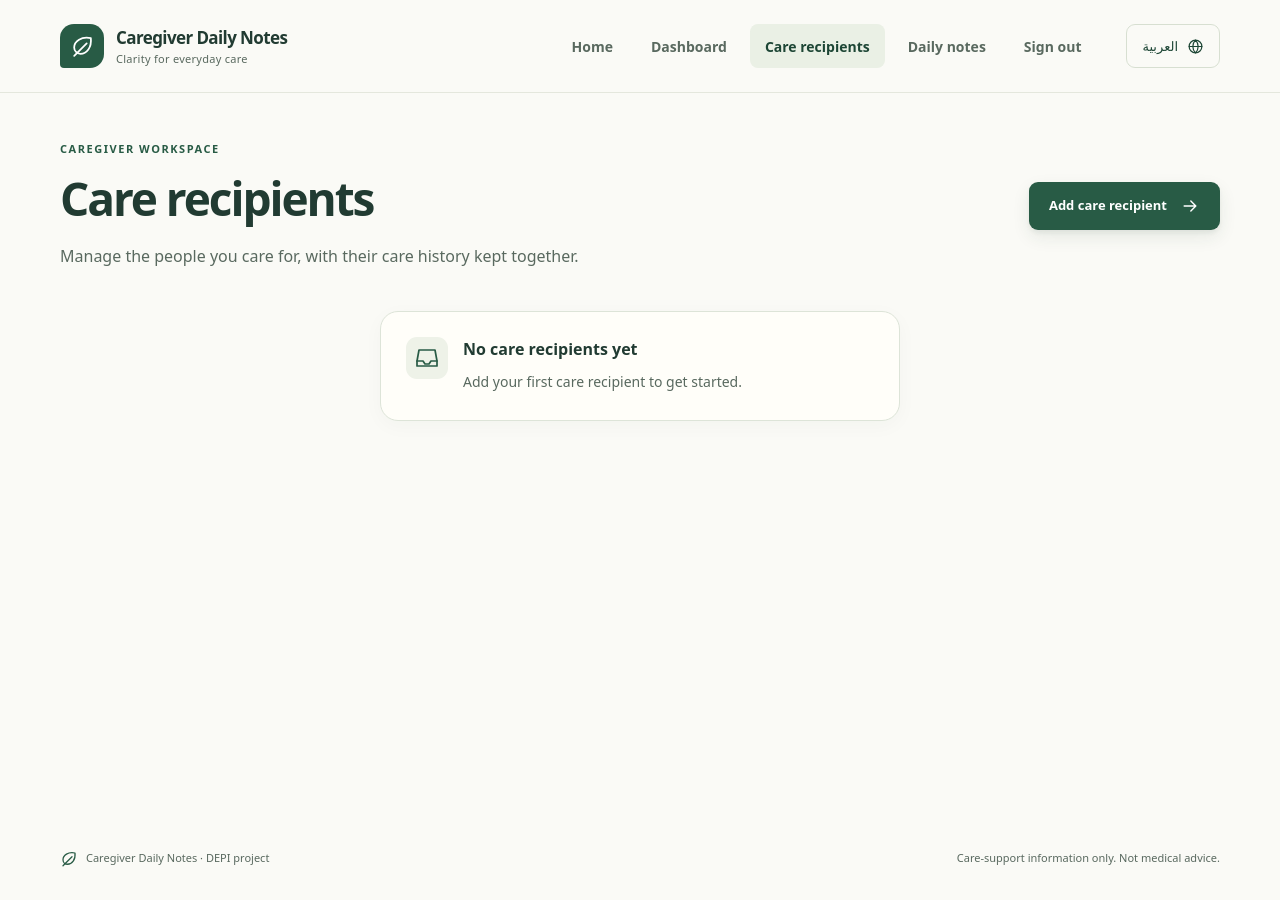
Test: care recipients screens › offers creation from the empty state
Expected: the text "No care recipients yet" is shown, [463,338,638,360]
Click the link "Add care recipient": [1124, 206] box [1029,182,1220,230]
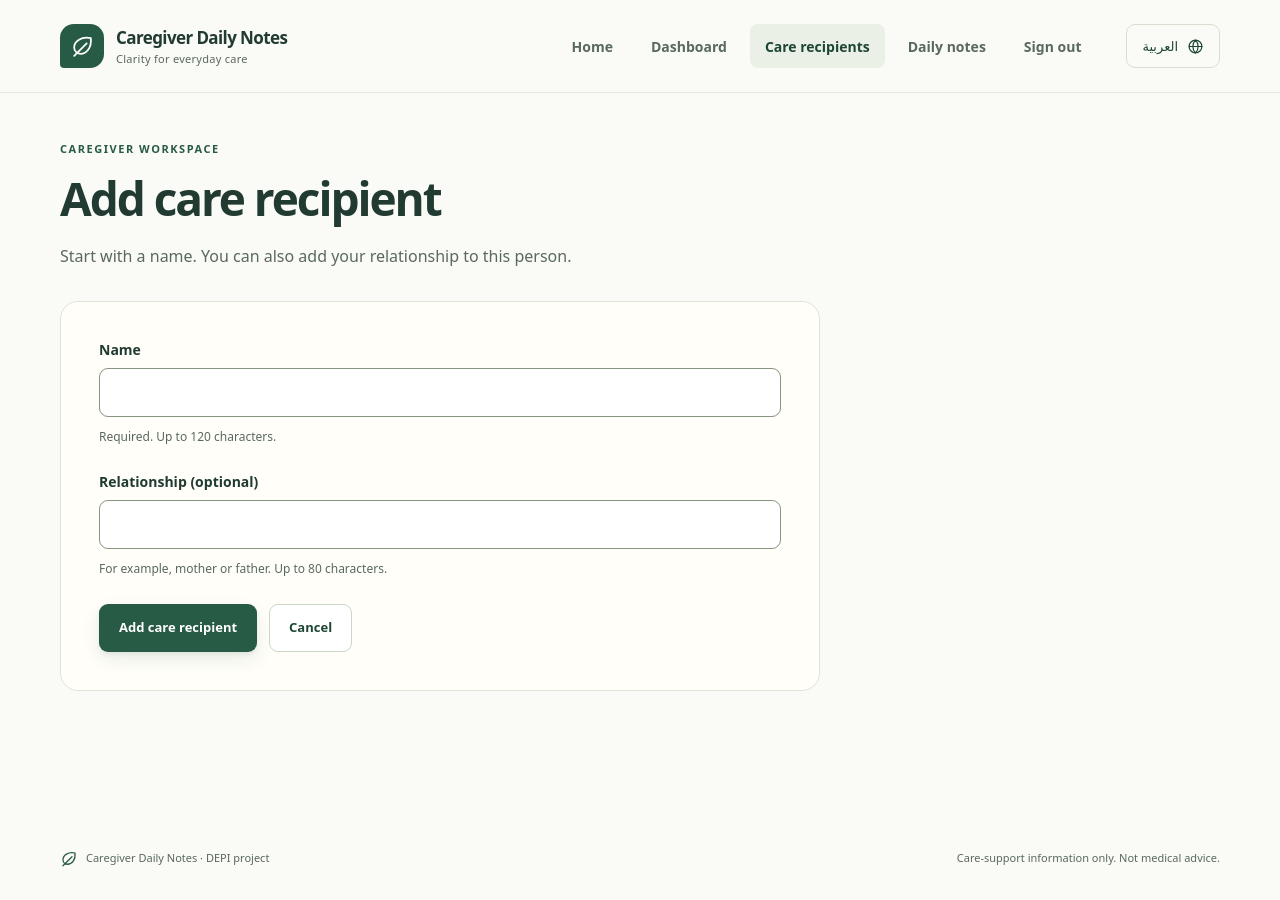
Now the form named "Add care recipient" is shown, box [99,340,781,652]
